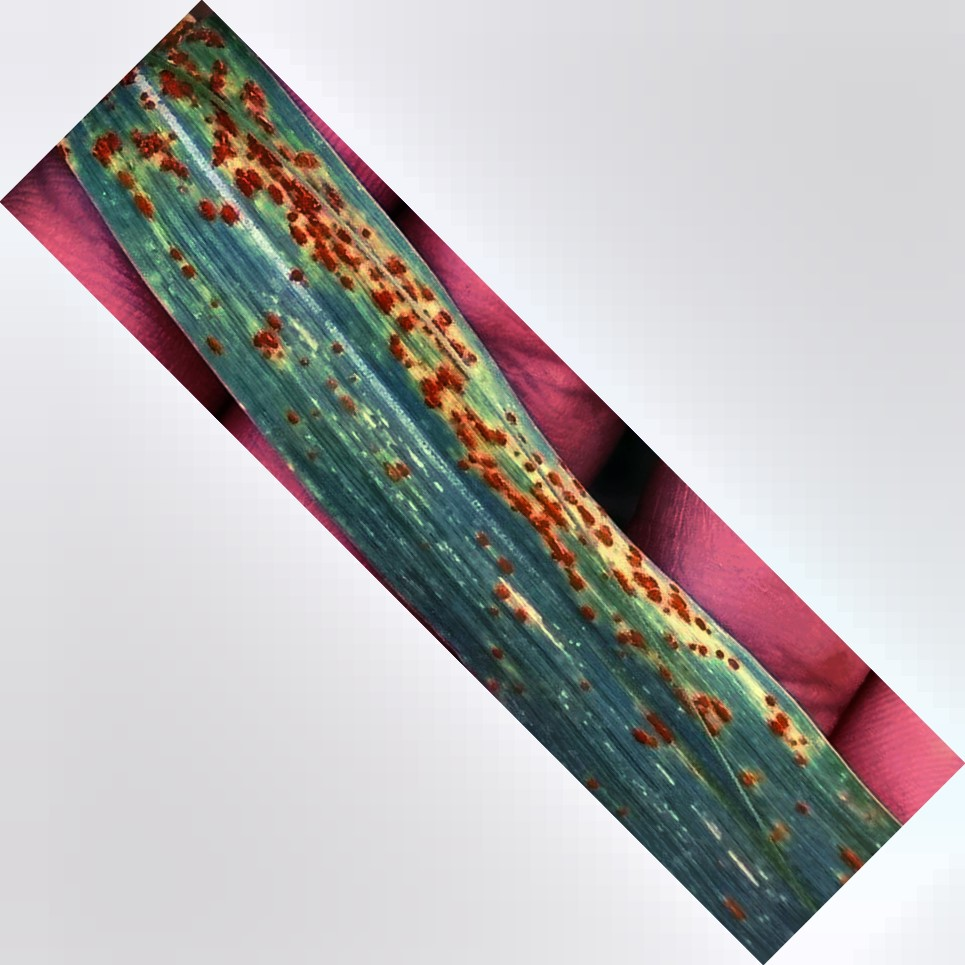Leaf Rust: (106, 86, 781, 802)
